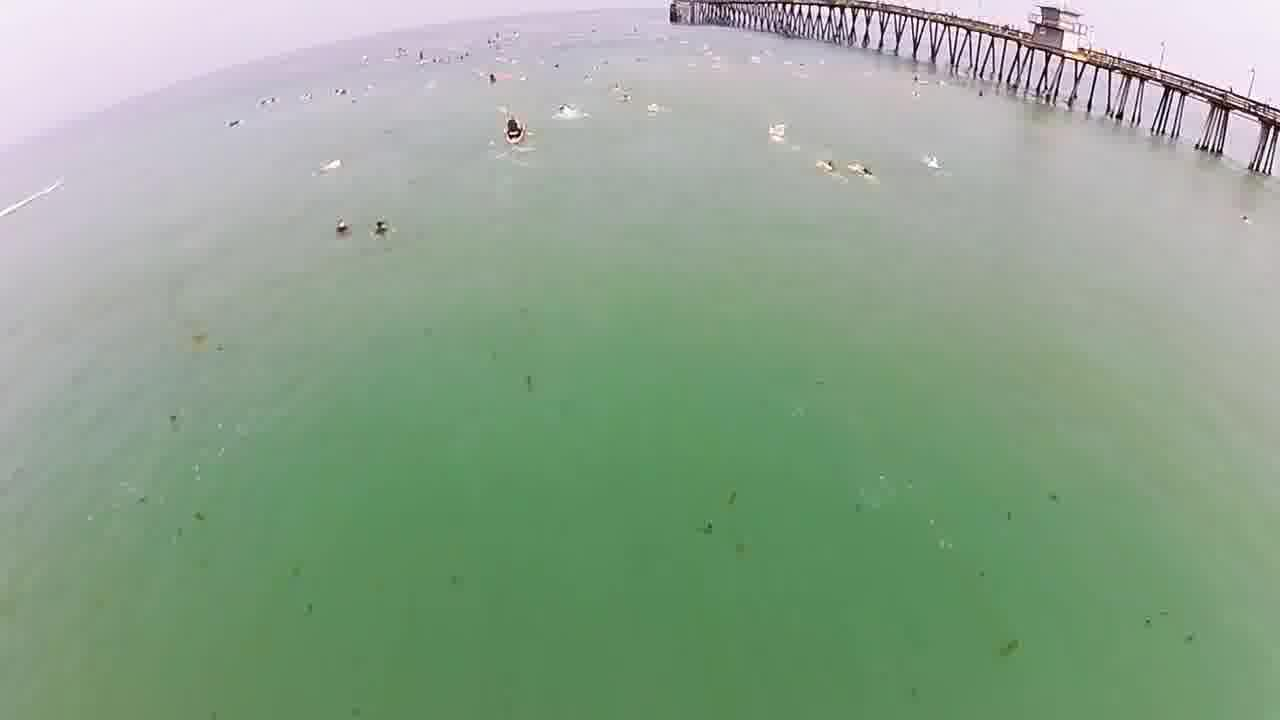swimmer: (366, 199, 394, 252), (325, 207, 354, 251)
